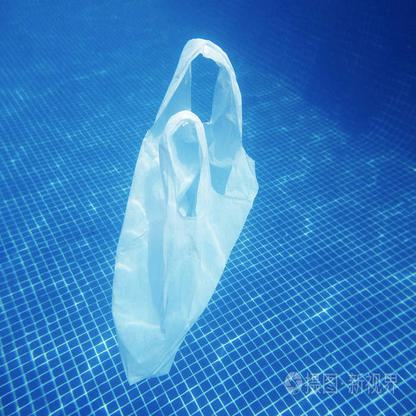plastic bag: (113, 37, 259, 383)
